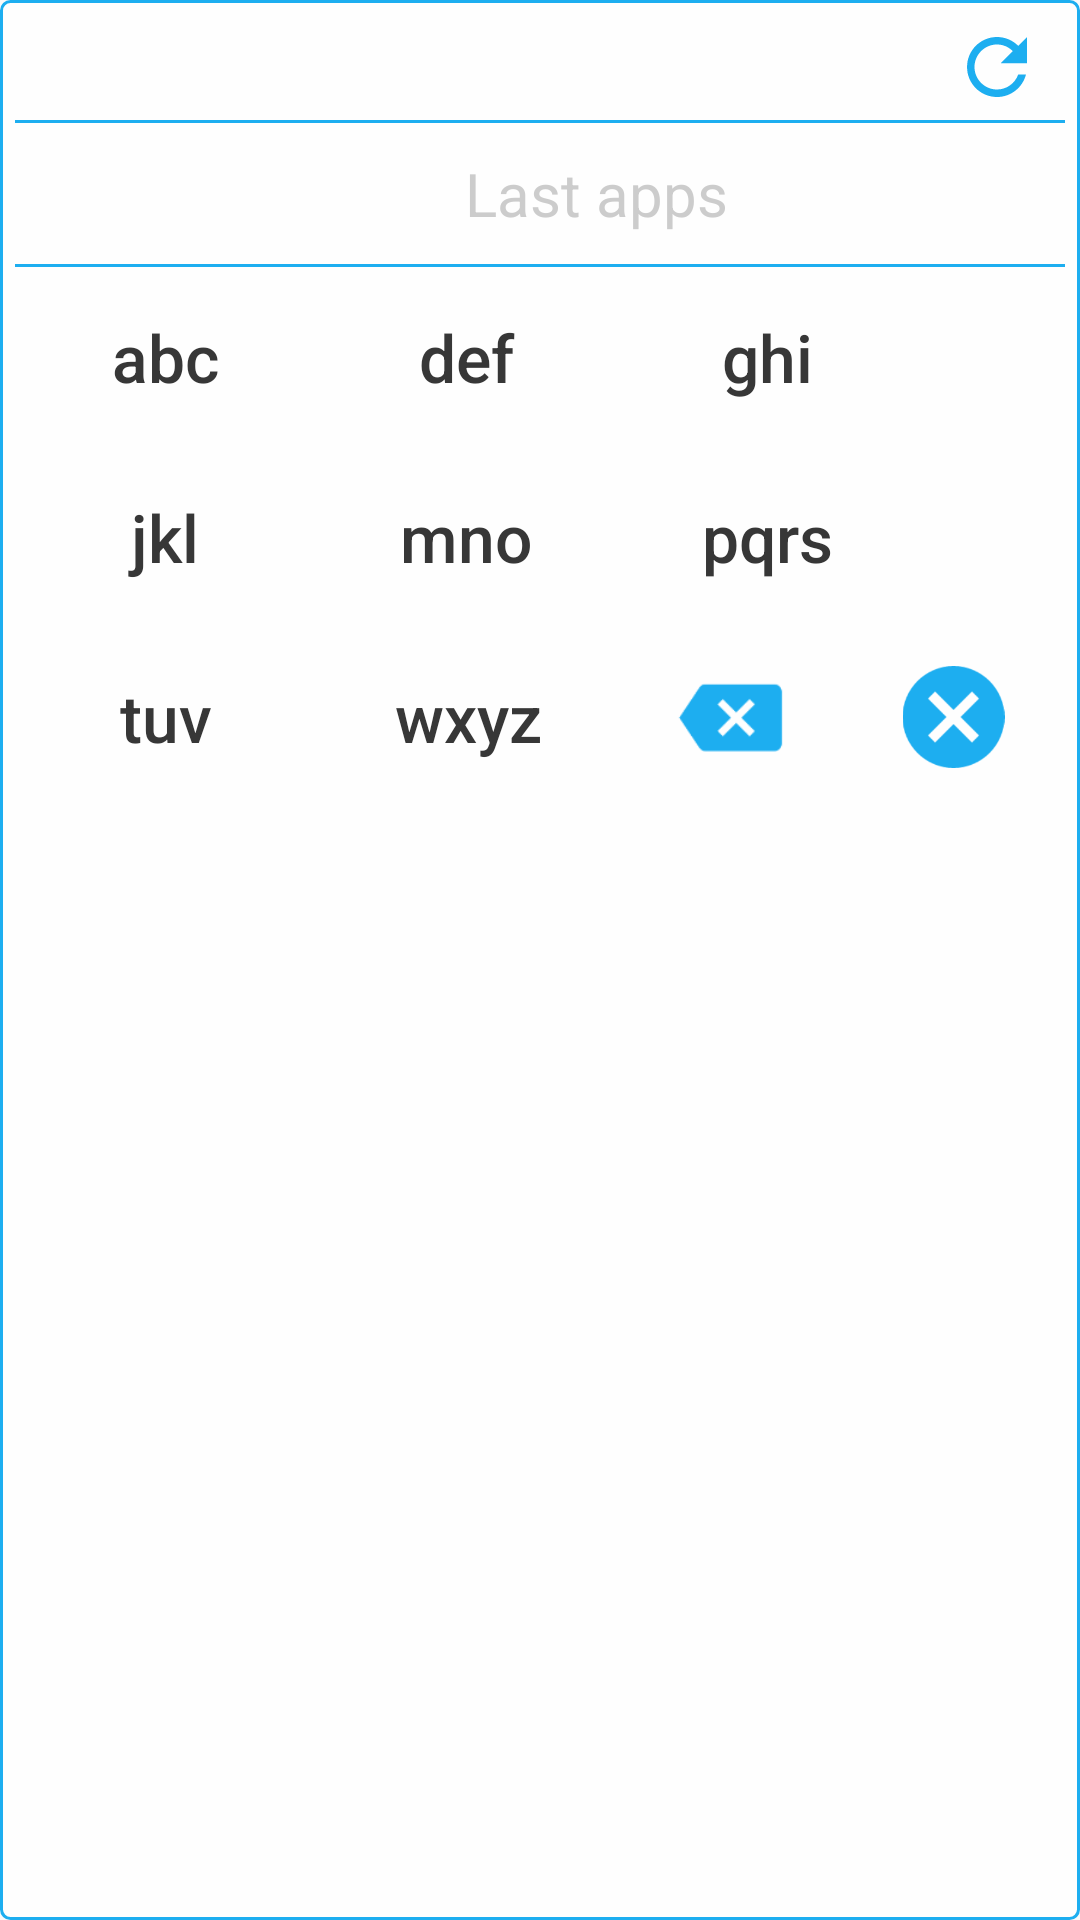

Screen size 1080px×1920px. Icon name, then its box in pixels as bbox=[x1, y1, x2, y2]:
backspace arrow: bbox=[679, 684, 783, 752]
cancel: bbox=[903, 666, 1005, 768]
refresh: bbox=[967, 37, 1027, 97]
